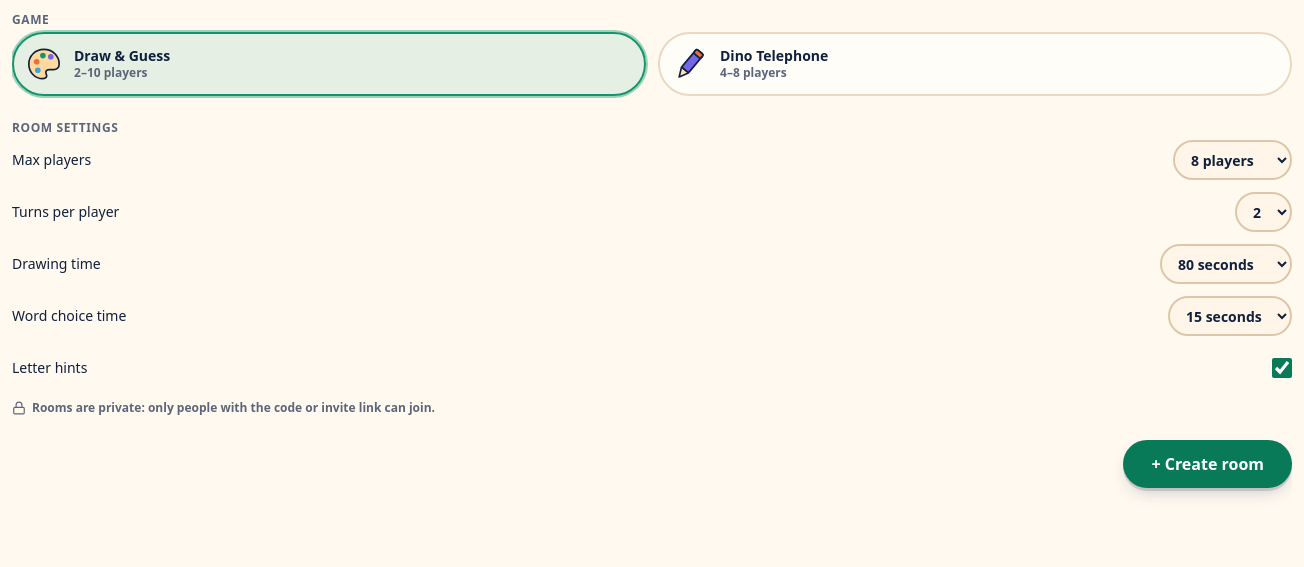
Test: CreateRoomForm › shows a rejected setting against its own field
This screenshot has width=1304, height=567.
Click the button "+ Create room".
click(1208, 464)  # box [1123,440,1292,488]
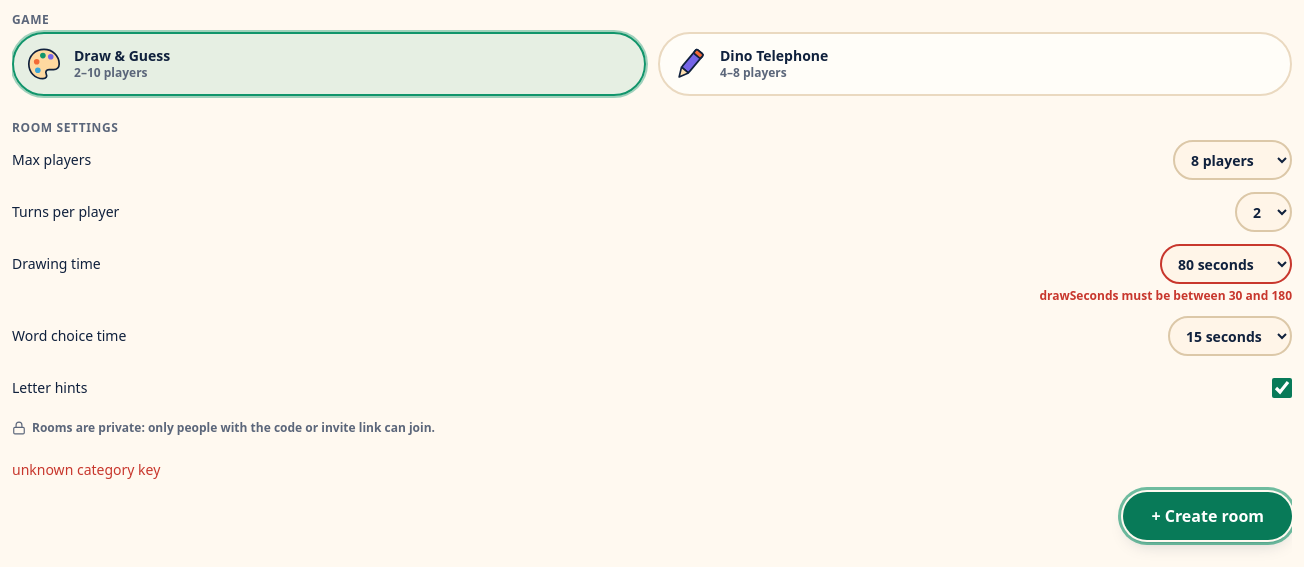
Expected: the message reads "unknown category key", [12,460,160,479]
